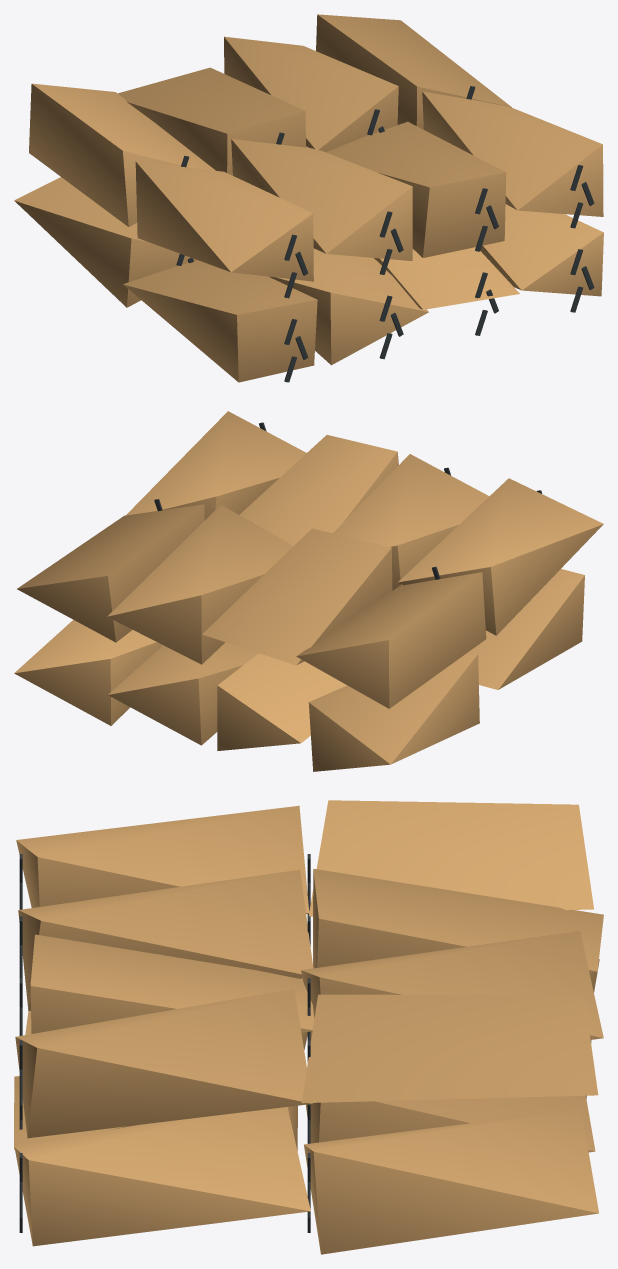
The model's file is NJD-08-LOD1.glb.
3 renders of one model, top to bottom at view 1: azimuth 30°, elevation 25°; view 2: azimuth 150°, elevation 25°; view 3: azimuth 270°, elevation 25°, orthographic. The views are drawn at different scales.
Parts seen in each view (by area): view 1: hand-shaped masonry.008, hand-shaped masonry, hand-shaped masonry.009, hand-shaped masonry.010, hand-shaped masonry.014, hand-shaped masonry.012, hand-shaped masonry.013, hand-shaped masonry.011, hand-shaped masonry.015, hand-shaped masonry.001, hand-shaped masonry.002, hand-shaped masonry.006 (+1 smaller); view 2: hand-shaped masonry.009, hand-shaped masonry.011, hand-shaped masonry.008, hand-shaped masonry.013, hand-shaped masonry.001, hand-shaped masonry.015, hand-shaped masonry.012, hand-shaped masonry.014, hand-shaped masonry.010, hand-shaped masonry.003, hand-shaped masonry.007, hand-shaped masonry.005 (+1 smaller); view 3: hand-shaped masonry.014, hand-shaped masonry.007, hand-shaped masonry.006, hand-shaped masonry.015, hand-shaped masonry.009, hand-shaped masonry.010, hand-shaped masonry.008, hand-shaped masonry.011, hand-shaped masonry.012, hand-shaped masonry.013, hand-shaped masonry.005, hand-shaped masonry.004.
Part boxes in pixels (x1=…): hand-shaped masonry.008: x1=135, y1=161, x2=313, y2=281; hand-shaped masonry: x1=123, y1=260, x2=317, y2=382; hand-shaped masonry.009: x1=29, y1=83, x2=215, y2=226; hand-shaped masonry.010: x1=231, y1=139, x2=412, y2=260; hand-shaped masonry.014: x1=422, y1=91, x2=603, y2=216; hand-shaped masonry.012: x1=325, y1=121, x2=506, y2=257; hand-shaped masonry.013: x1=224, y1=36, x2=398, y2=151; hand-shaped masonry.011: x1=118, y1=67, x2=305, y2=175; hand-shaped masonry.015: x1=316, y1=14, x2=511, y2=129; hand-shaped masonry.001: x1=14, y1=177, x2=197, y2=307; hand-shaped masonry.002: x1=269, y1=248, x2=428, y2=365; hand-shaped masonry.006: x1=480, y1=204, x2=603, y2=296; hand-shaped masonry.009: x1=296, y1=572, x2=486, y2=708; hand-shaped masonry.011: x1=202, y1=528, x2=392, y2=665; hand-shaped masonry.008: x1=398, y1=478, x2=603, y2=635; hand-shaped masonry.013: x1=107, y1=505, x2=293, y2=664; hand-shaped masonry.001: x1=308, y1=654, x2=479, y2=771; hand-shaped masonry.015: x1=17, y1=504, x2=204, y2=642; hand-shaped masonry.012: x1=239, y1=435, x2=398, y2=545; hand-shaped masonry.014: x1=126, y1=411, x2=306, y2=520; hand-shaped masonry.010: x1=333, y1=454, x2=489, y2=590; hand-shaped masonry.003: x1=217, y1=653, x2=346, y2=750; hand-shaped masonry.007: x1=14, y1=620, x2=162, y2=725; hand-shaped masonry.005: x1=108, y1=642, x2=258, y2=745; hand-shaped masonry.014: x1=15, y1=989, x2=312, y2=1138; hand-shaped masonry.007: x1=304, y1=1109, x2=598, y2=1254; hand-shaped masonry.006: x1=14, y1=1107, x2=310, y2=1246; hand-shaped masonry.015: x1=301, y1=994, x2=598, y2=1103; hand-shaped masonry.009: x1=308, y1=800, x2=593, y2=916; hand-shaped masonry.010: x1=18, y1=869, x2=313, y2=1011; hand-shaped masonry.008: x1=16, y1=805, x2=309, y2=913; hand-shaped masonry.011: x1=313, y1=868, x2=603, y2=972; hand-shaped masonry.012: x1=30, y1=934, x2=314, y2=1033; hand-shaped masonry.013: x1=301, y1=931, x2=603, y2=1039; hand-shaped masonry.005: x1=306, y1=1095, x2=595, y2=1152; hand-shaped masonry.004: x1=14, y1=1076, x2=297, y2=1150.
Size of the model in its own units: 1.96 by 0.7743 by 1.93.
